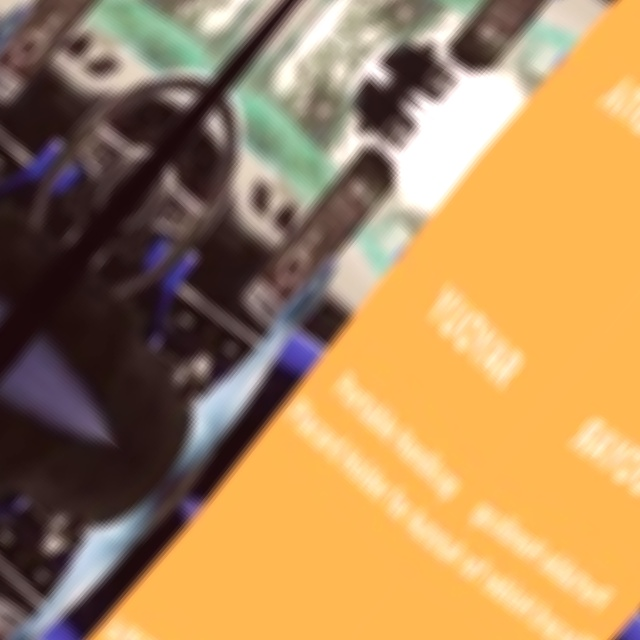ISA: (268, 218, 337, 292), (3, 0, 72, 72), (509, 0, 578, 2)
